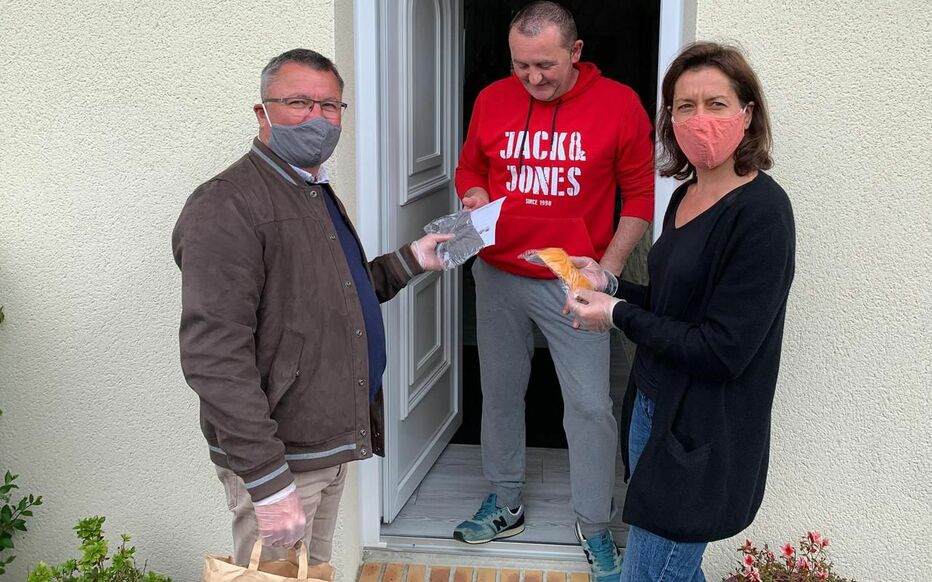with_mask: (664, 87, 758, 173), (260, 83, 350, 171)
without_mask: (505, 34, 584, 106)
